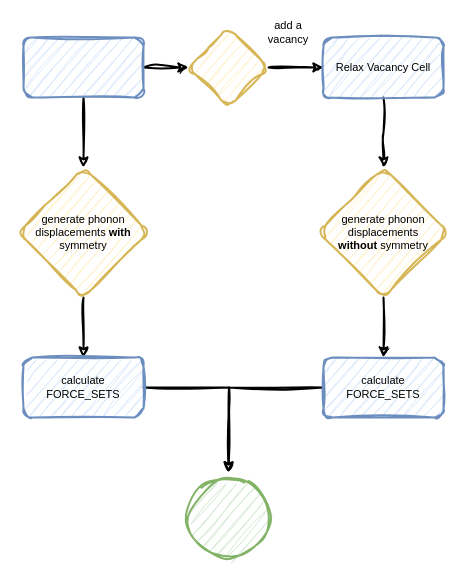
This 466x575 diagram has some shape labels left out. The shapes that lost their labels are listed below. From the top down, each one's centre as x and y in pixels, then its label:
the point at 83,67: Primitive Relax
the point at 228,67: Generate Supercell
the point at 228,517: run puppy
